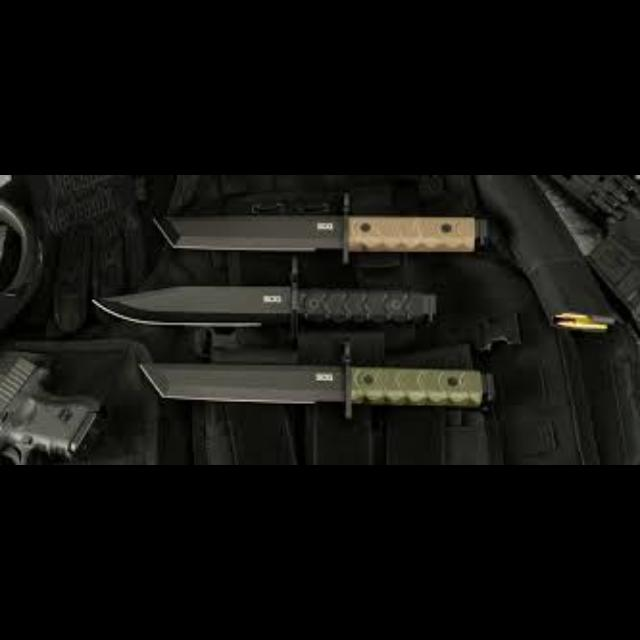knife: (136, 359, 484, 408), (90, 283, 436, 327), (150, 212, 490, 254)
